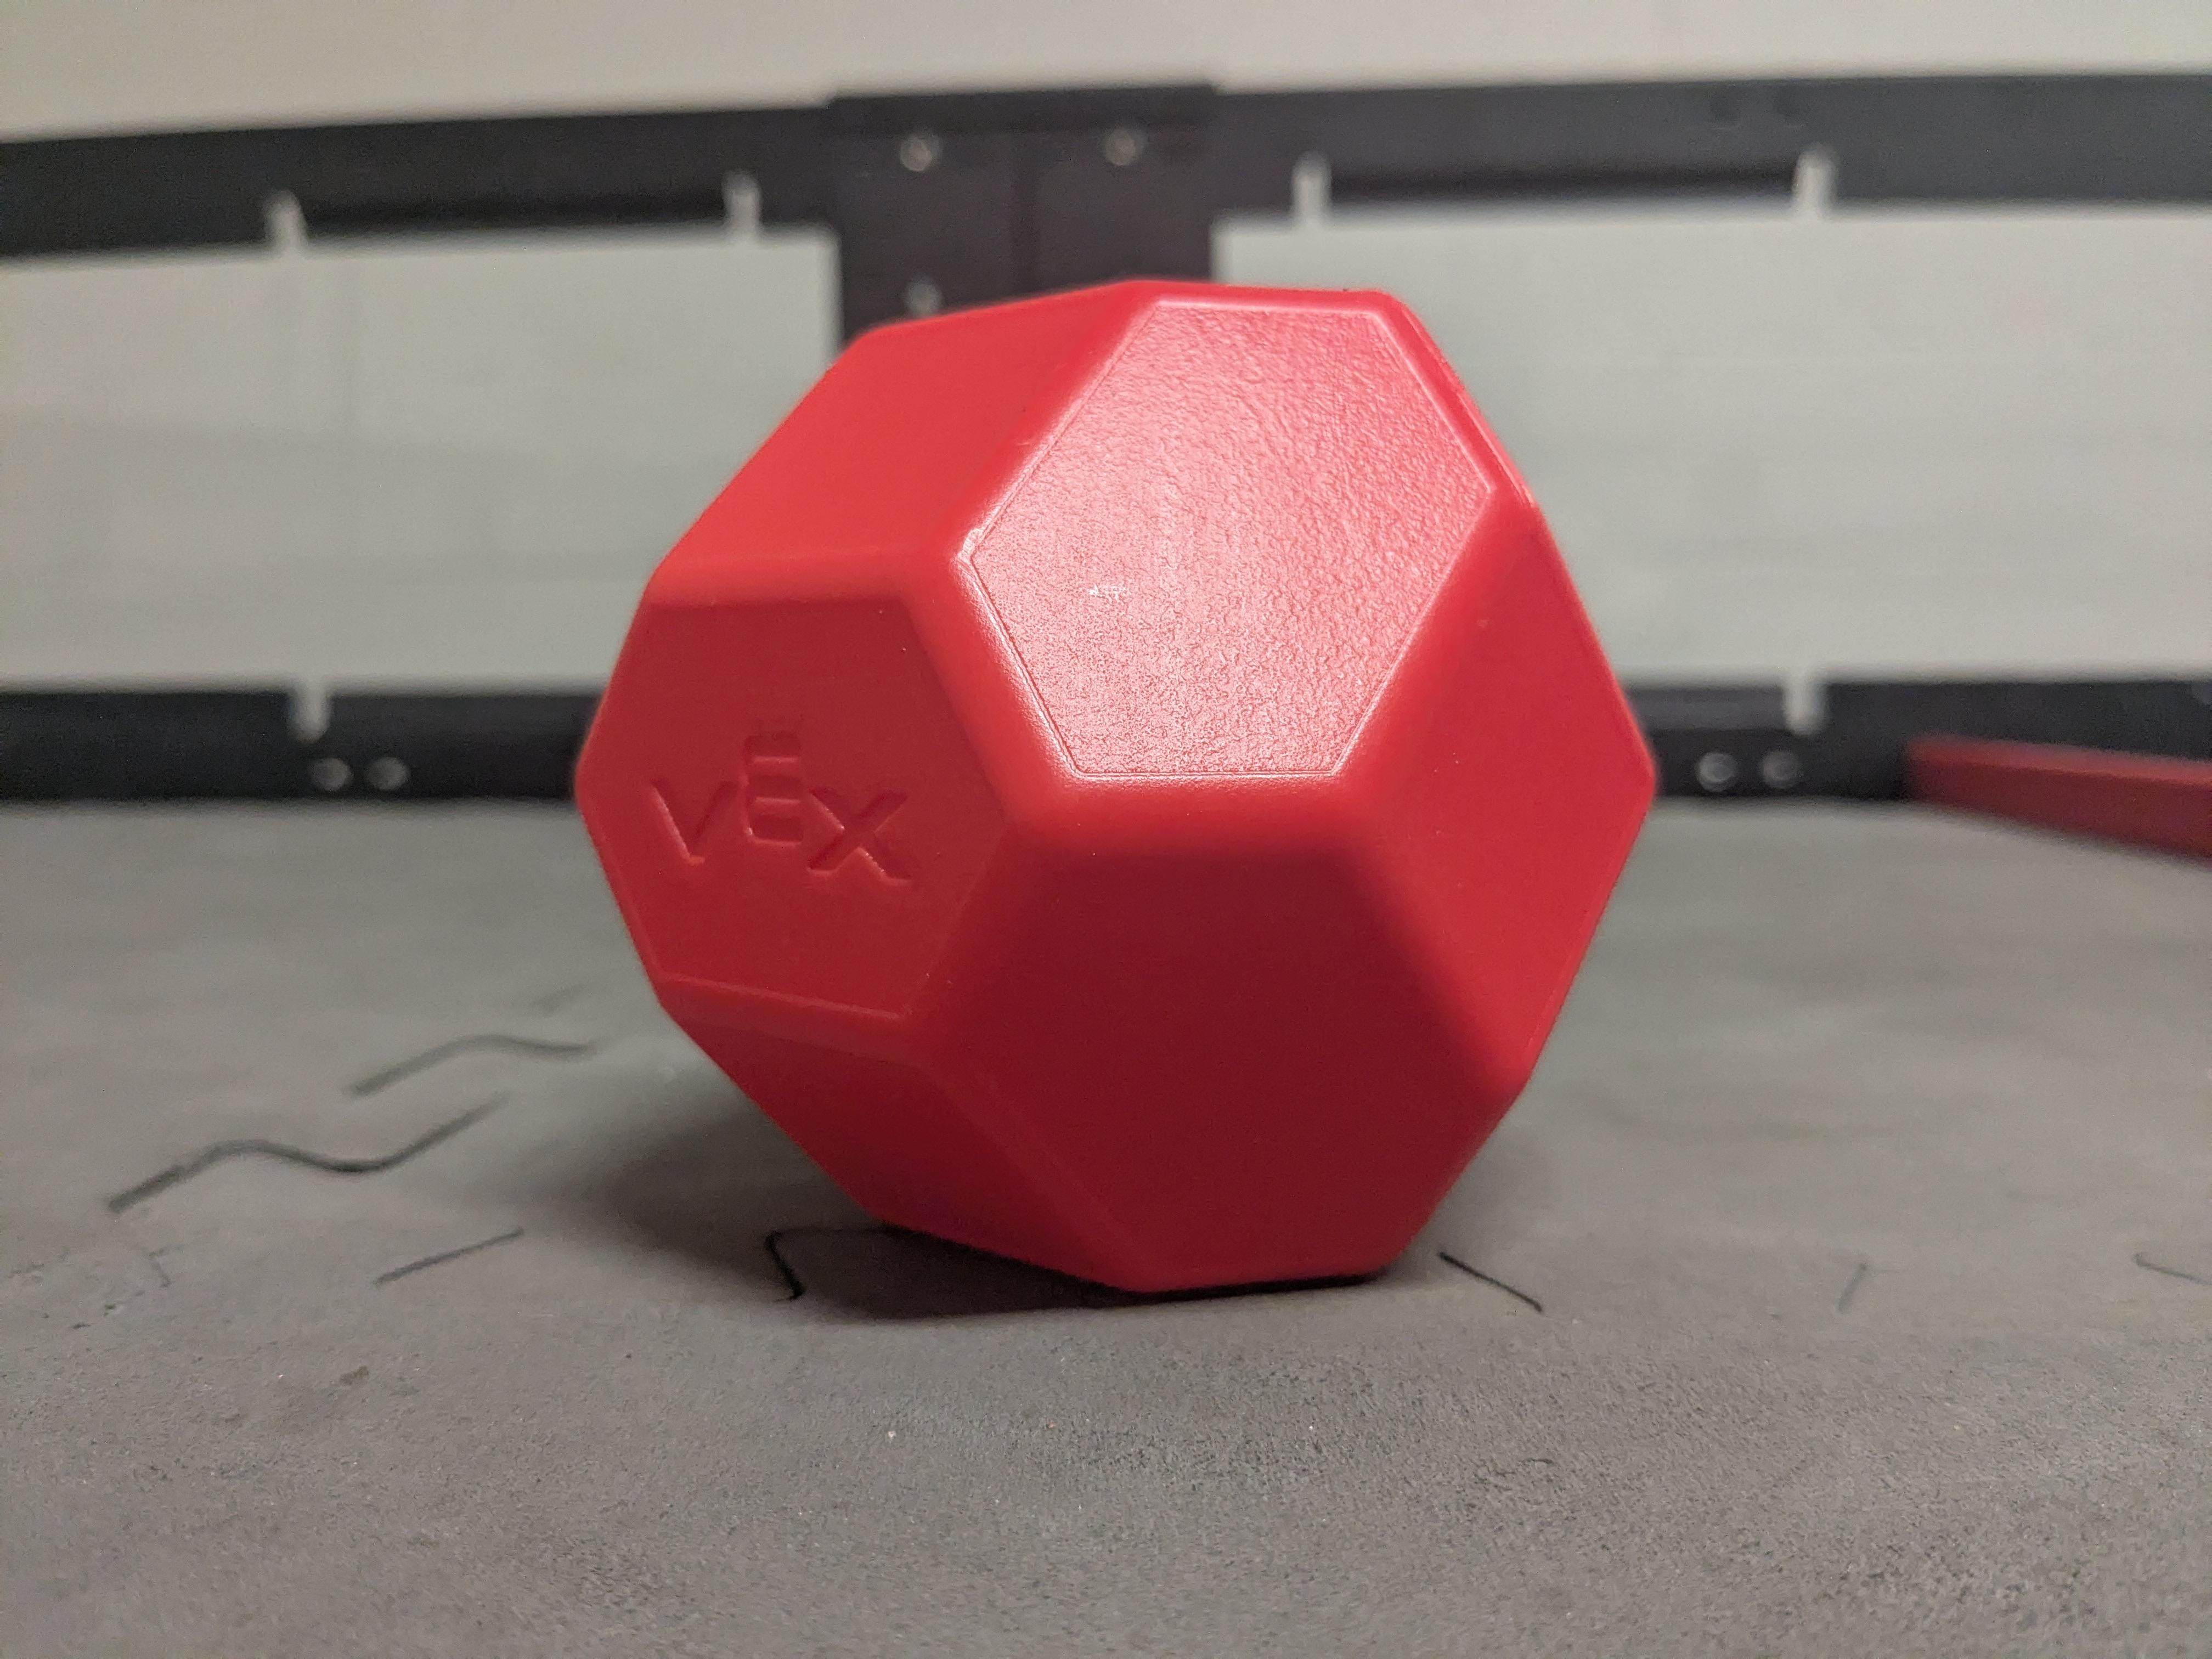Vex-Pieces-RED: (559, 277, 1665, 1293)
